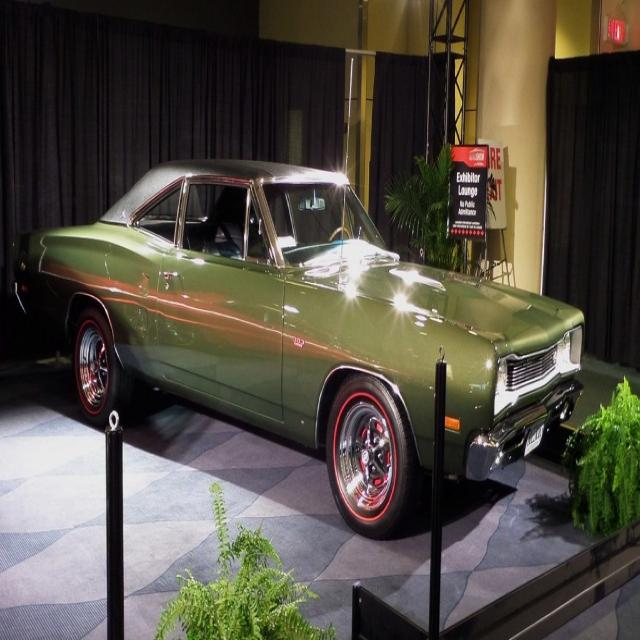car: (41, 169, 590, 524)
